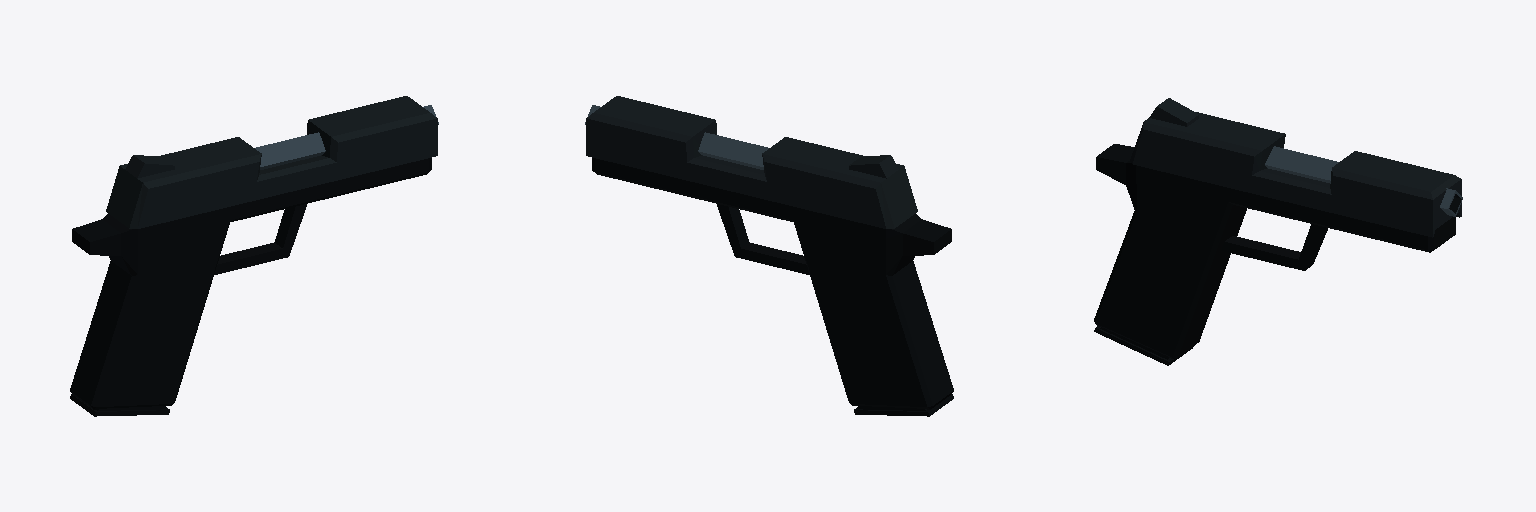
Rendered from pistol-coonan.obj.
The picture shows the model from 3 angles: view 1: azimuth 30°, elevation 25°; view 2: azimuth 150°, elevation 25°; view 3: azimuth 330°, elevation 25°; orthographic projection.
Parts seen in each view (by area): view 1: body_Cube, reload_Cube.001, mag_Cube.002; view 2: body_Cube, reload_Cube.001, mag_Cube.002; view 3: body_Cube, reload_Cube.001, mag_Cube.002.
Boxes of the visible parts, x1=… form: body_Cube: x1=70, y1=105, x2=438, y2=409; reload_Cube.001: x1=106, y1=96, x2=437, y2=228; mag_Cube.002: x1=70, y1=394, x2=169, y2=416; body_Cube: x1=585, y1=105, x2=953, y2=409; reload_Cube.001: x1=586, y1=96, x2=917, y2=228; mag_Cube.002: x1=854, y1=394, x2=953, y2=416; body_Cube: x1=1094, y1=144, x2=1462, y2=358; reload_Cube.001: x1=1130, y1=98, x2=1461, y2=237; mag_Cube.002: x1=1094, y1=326, x2=1193, y2=365.
Bounding box in the file's own units: 0.2418 × 0.165 × 0.0346.